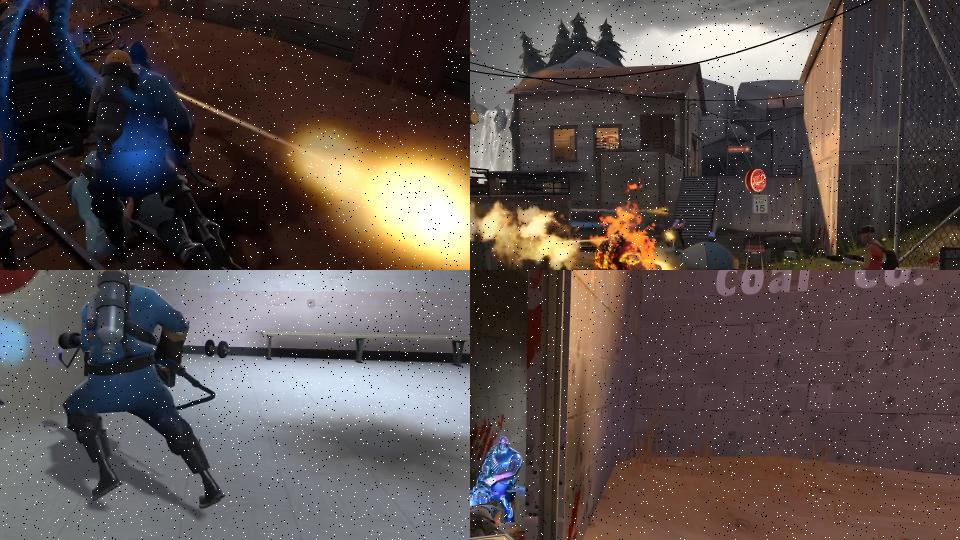Enemy: (85, 38, 268, 270), (59, 270, 226, 506), (0, 33, 52, 270), (470, 435, 523, 523), (594, 221, 679, 270), (820, 225, 900, 270), (470, 499, 519, 540), (671, 215, 686, 247)
